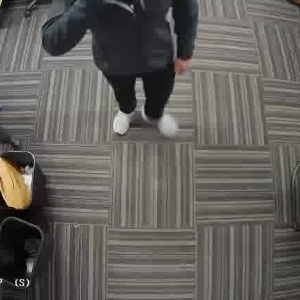person: (85, 0, 187, 139)
